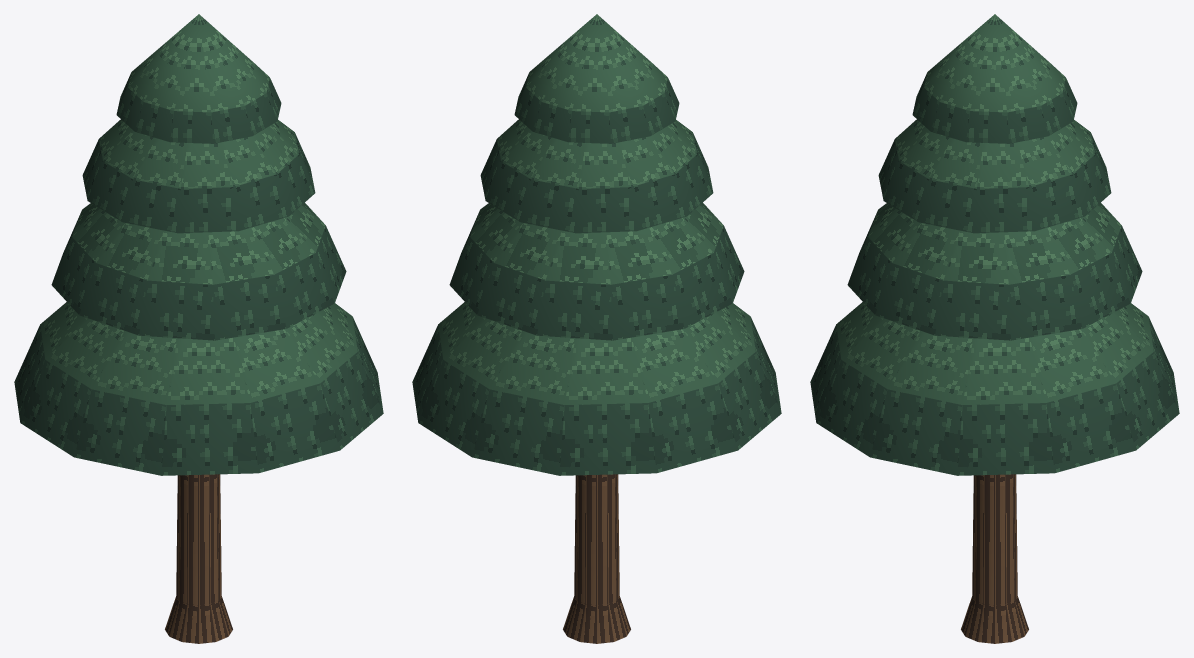
File: pine_2.glb
3 renders of one model, left to right at view 1: azimuth 30°, elevation 25°; view 2: azimuth 150°, elevation 25°; view 3: azimuth 270°, elevation 25°, orthographic.
Parts seen in each view (by area): view 1: pine_3; view 2: pine_3; view 3: pine_3.
Part boxes in pixels (x1,y1,x2,y2): pine_3: [14, 14, 383, 643]; pine_3: [412, 14, 781, 643]; pine_3: [810, 14, 1179, 643].
Bounding box in the file's own units: 2.48 × 4.57 × 2.48.
Materials: 3 (3 with a texture image).
